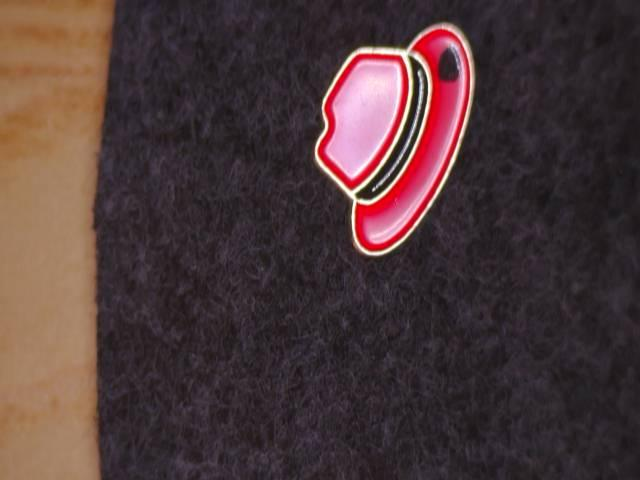Red-Hat: (304, 9, 497, 281)
Scratch: (418, 33, 490, 101)
